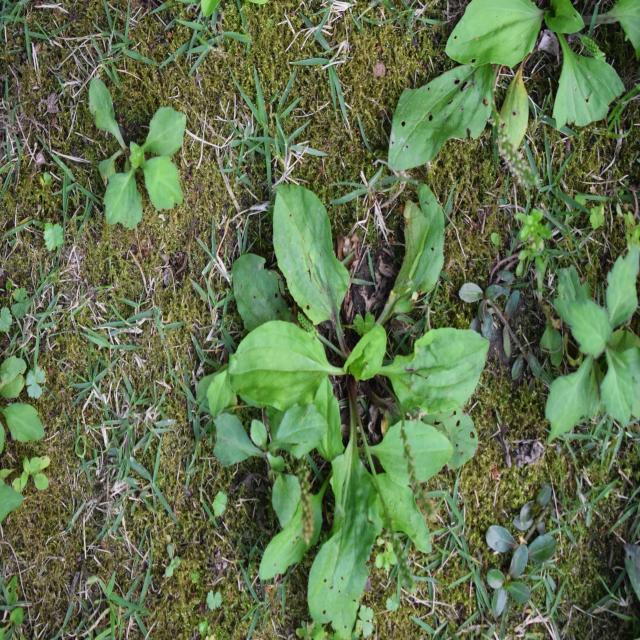plantain: (229, 200, 476, 568)
